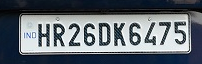2: (68, 22, 81, 47)
4: (144, 21, 157, 46)
5: (174, 20, 186, 46)
6: (128, 22, 143, 46), (83, 21, 96, 47)
7: (156, 21, 172, 46)
D: (98, 21, 111, 46)
H: (36, 22, 52, 47)
K: (113, 21, 127, 48)
R: (52, 22, 66, 47)
